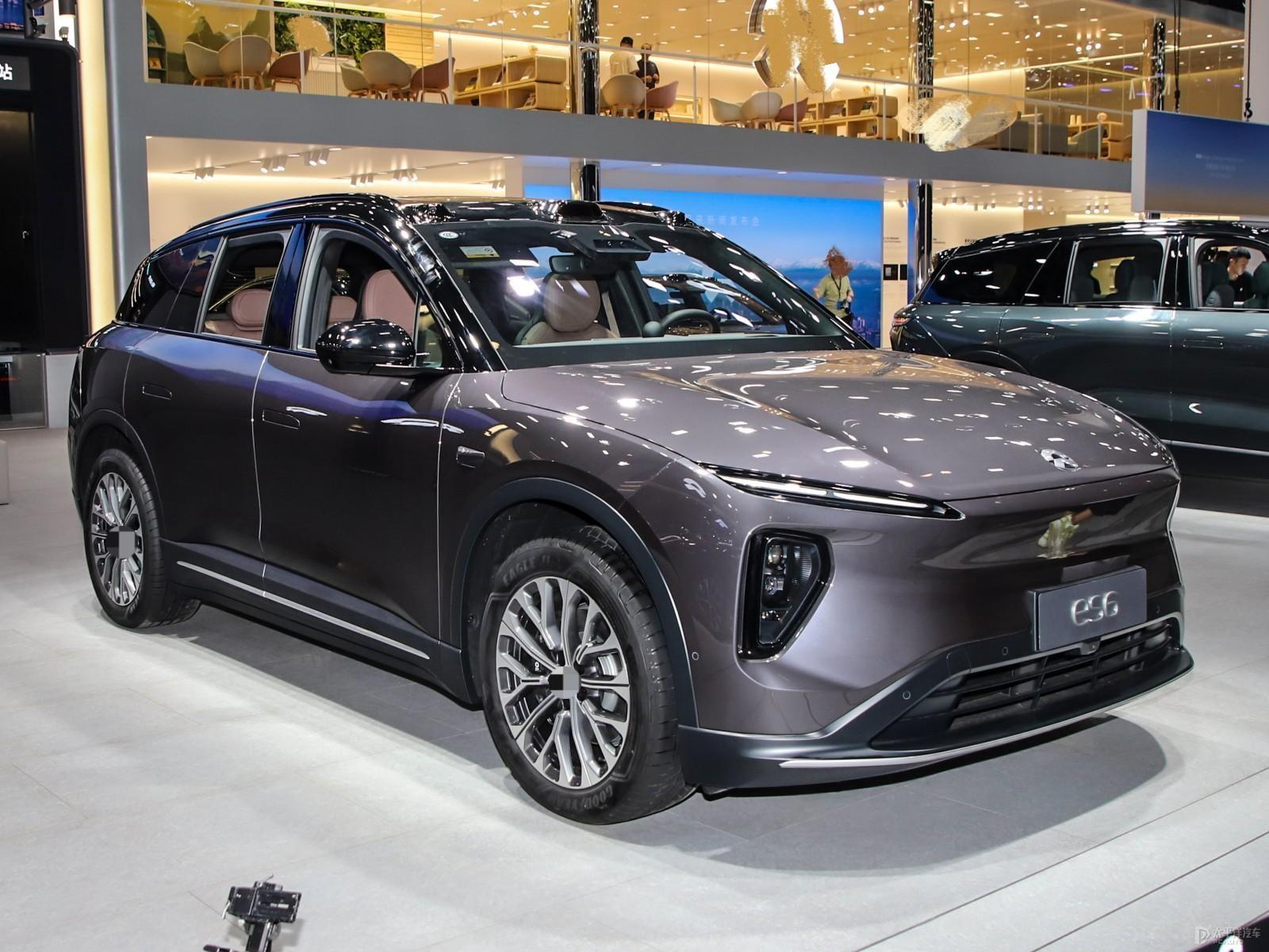NIO: (1040, 448, 1078, 470)
